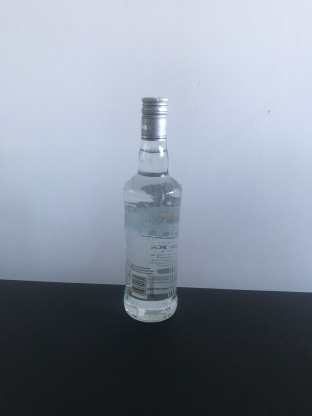nakretka: (139, 95, 169, 142)
